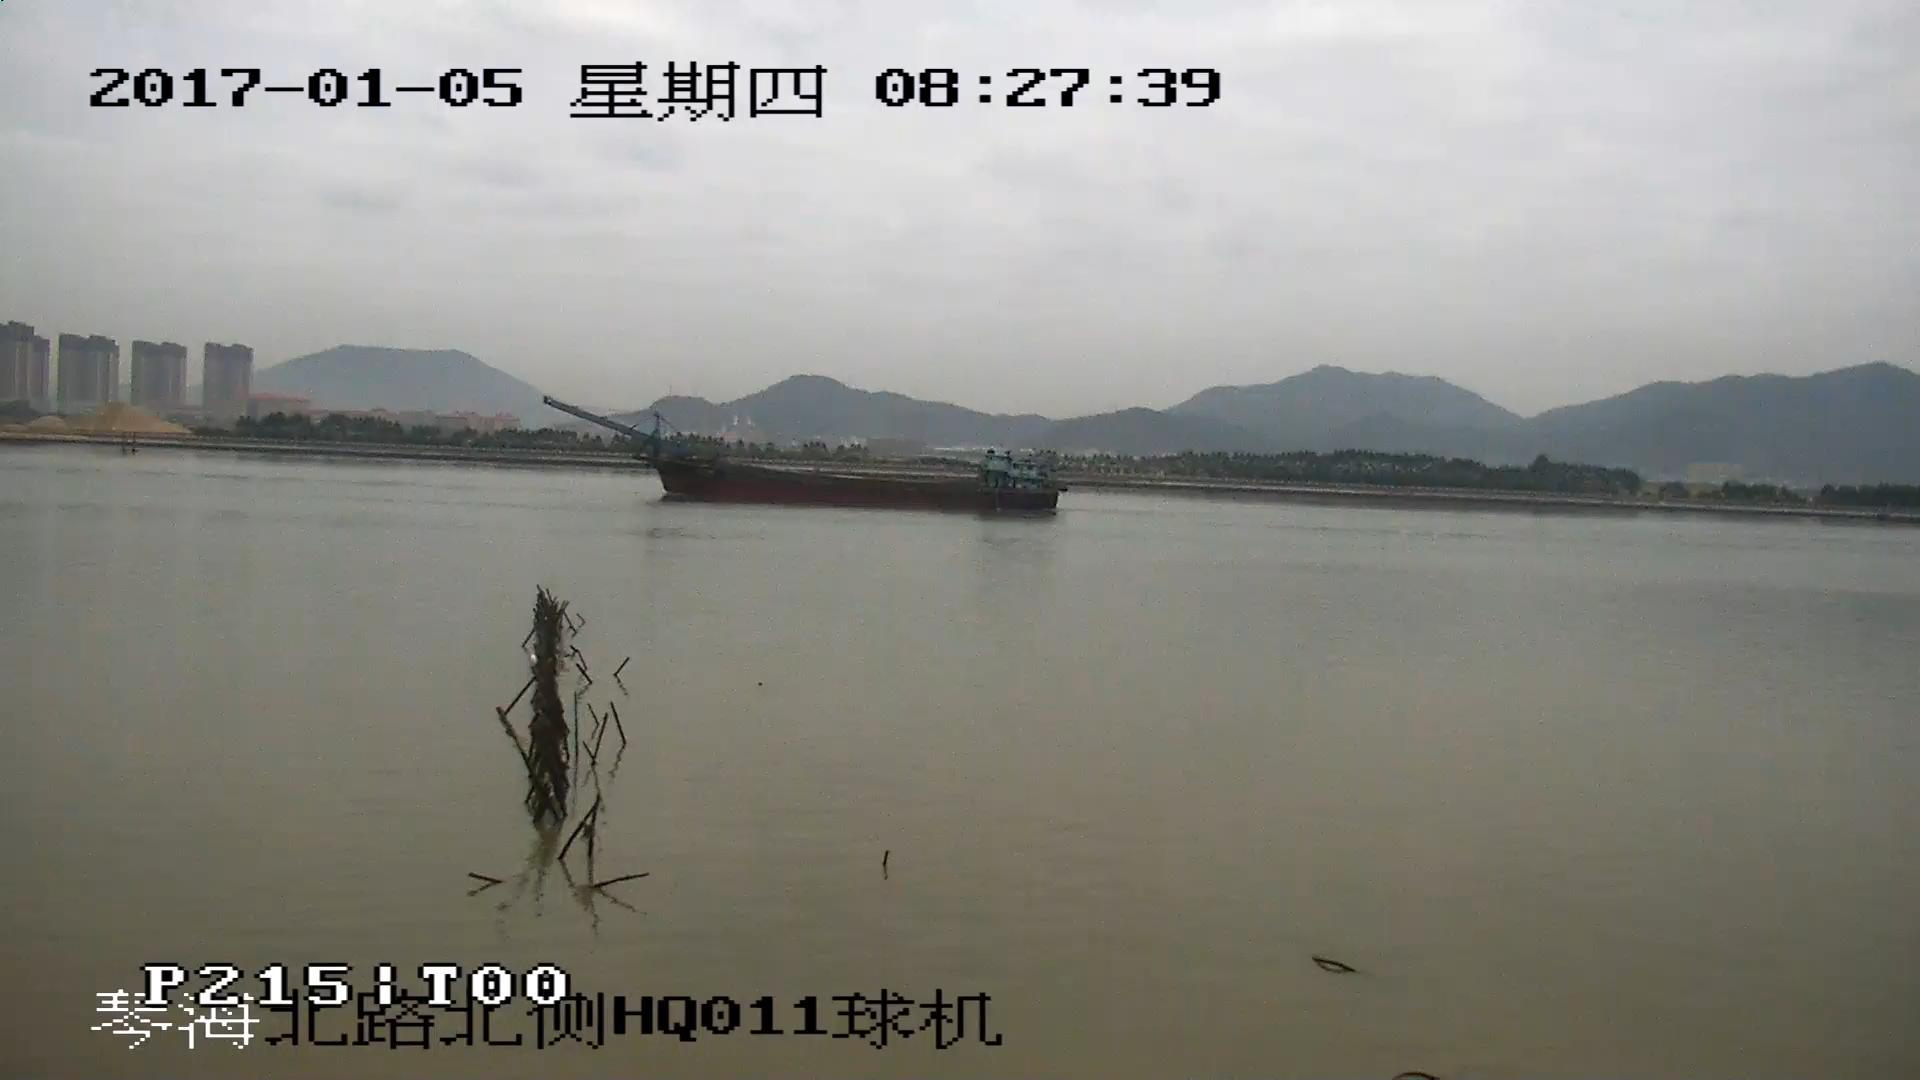Ship: (545, 400, 1063, 514)
